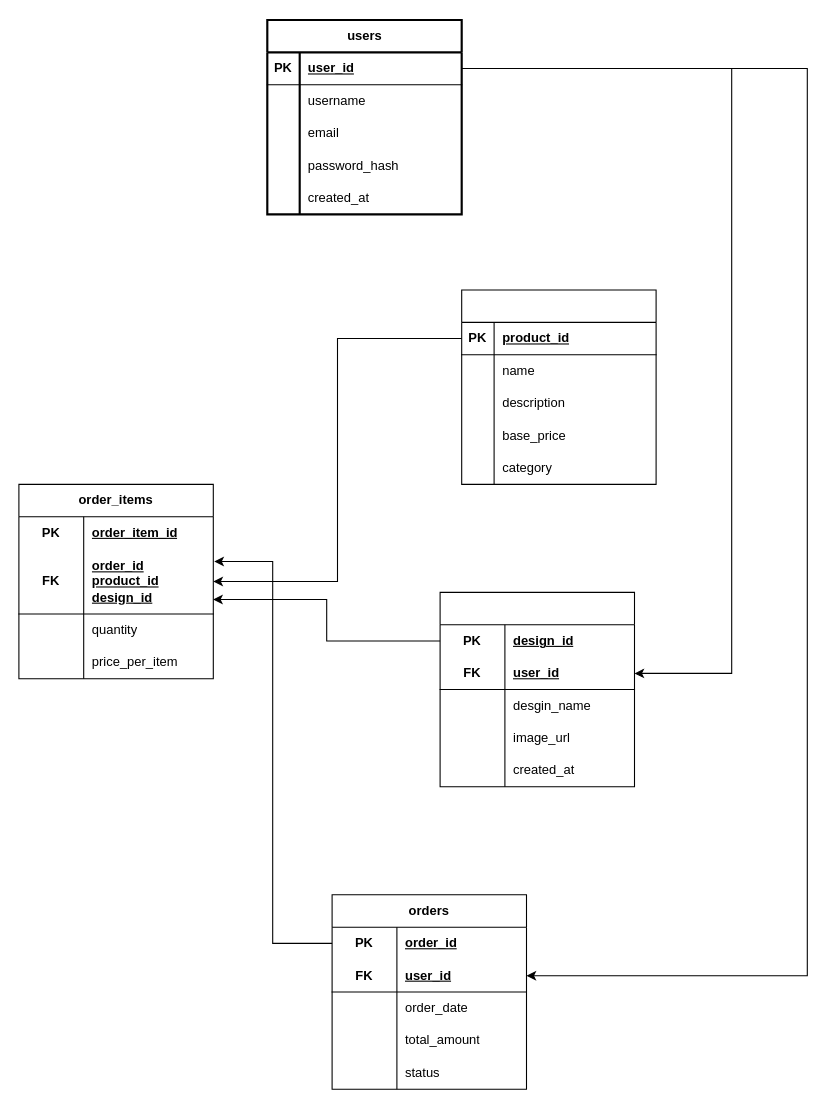
Some shapes in this 835 by 1108 pixel diagram are drawn without their labels. Here are the shapes that lost their labels. From the top down, the box of each, then its label:
(461, 289, 656, 484): products
(439, 591, 634, 787): designs
